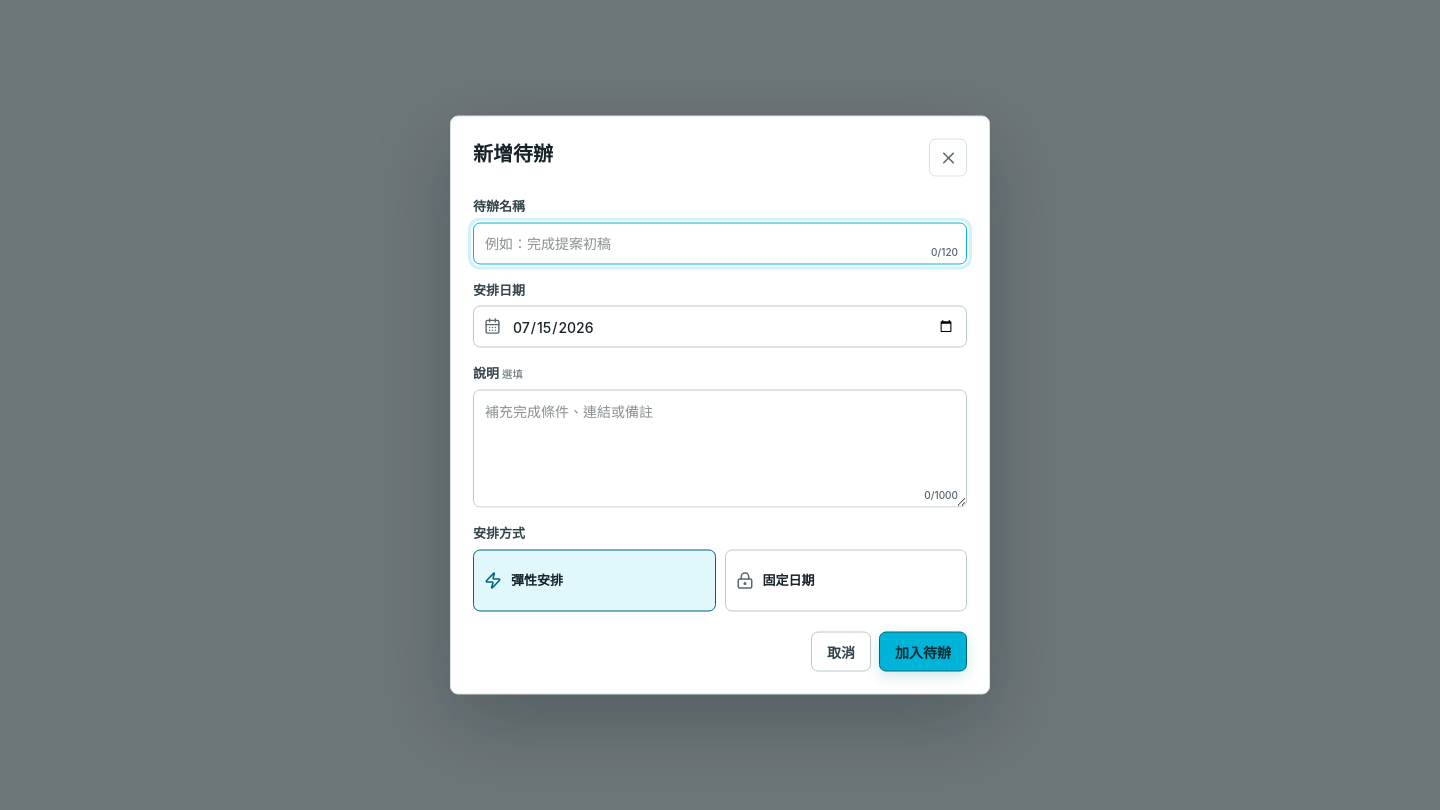
Test: TaskEditorDialog › validates a blank title without submitting
The width and height of the screenshot is (1440, 810).
Step 1. Click the button "加入待辦" → [923, 652], box [879,632,967,672]
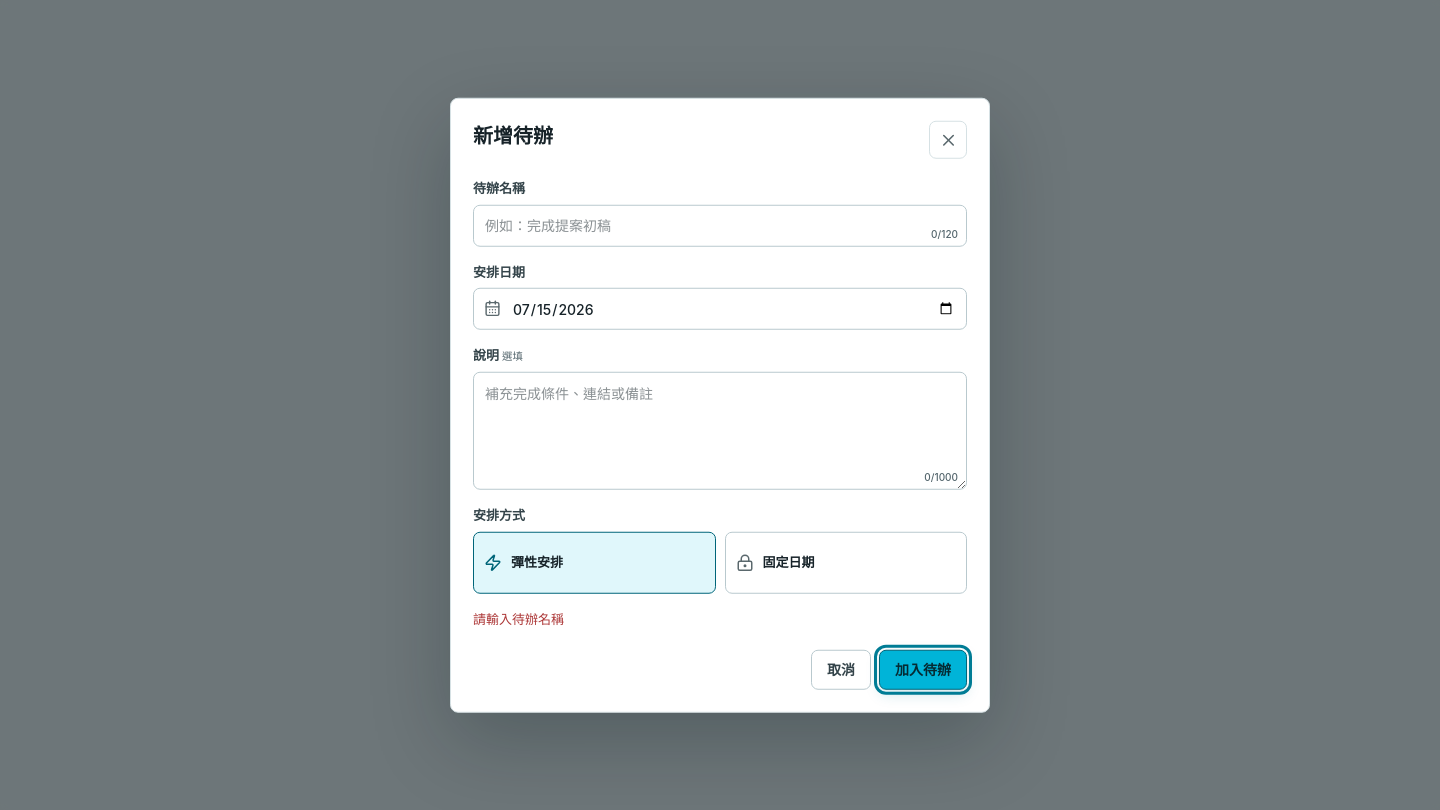
Expected: the message reads "請輸入待辦名稱", [473,611,564,627]
